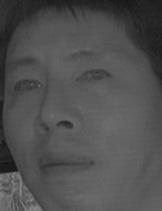eye: (76, 65, 112, 89), (9, 76, 43, 97)
mouth: (36, 147, 96, 180)
